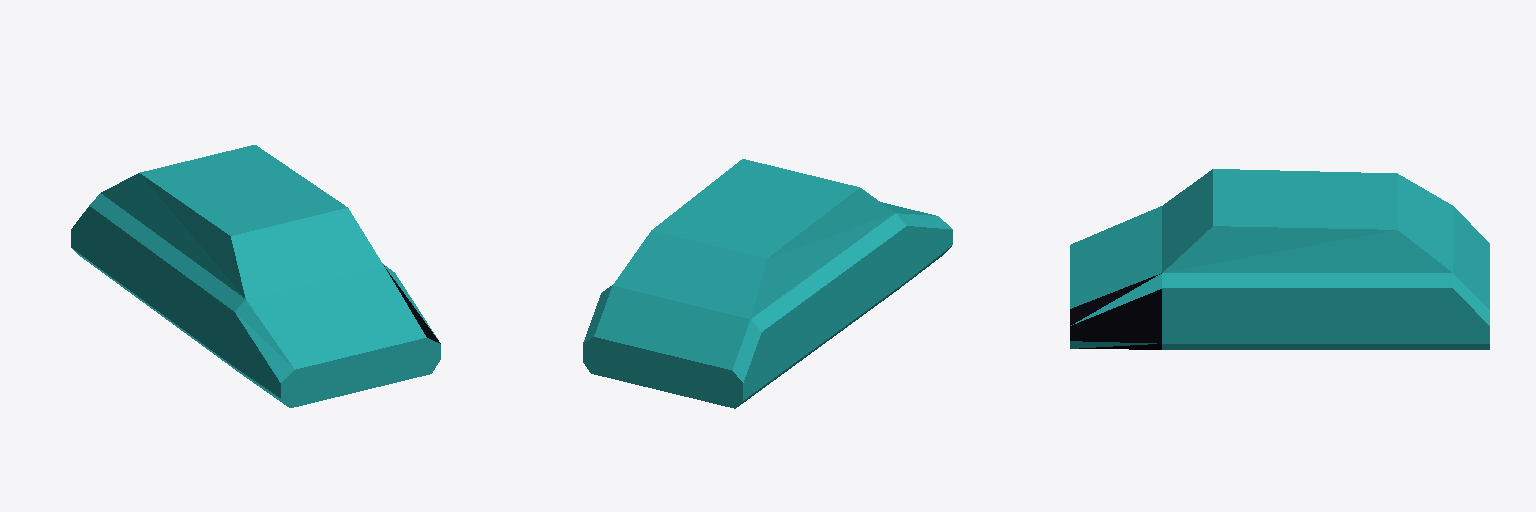
File: vehicle_crossover_simple.obj
3 views of the same model, side by side, from view 1: azimuth 30°, elevation 25°; view 2: azimuth 150°, elevation 25°; view 3: azimuth 270°, elevation 25° (orthographic).
Bounding box in the file's own units: 2.01 × 1.4 × 4.55.